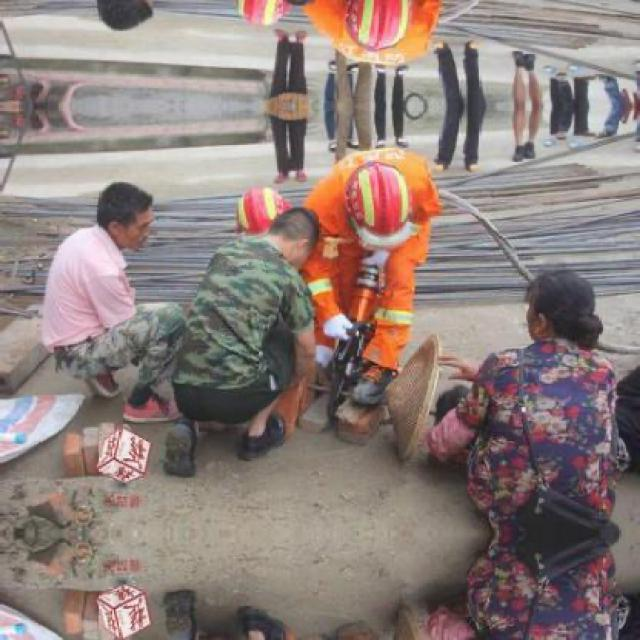helmet: (340, 161, 415, 242), (340, 0, 417, 54), (234, 184, 295, 239), (232, 0, 296, 31)
